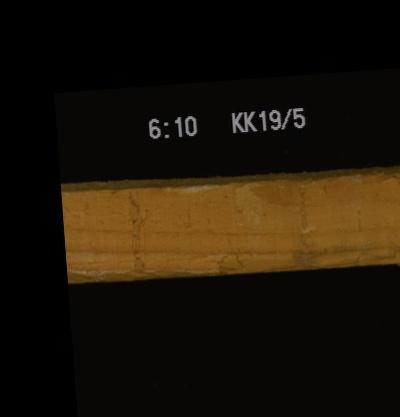wave: (66, 258, 217, 279)
